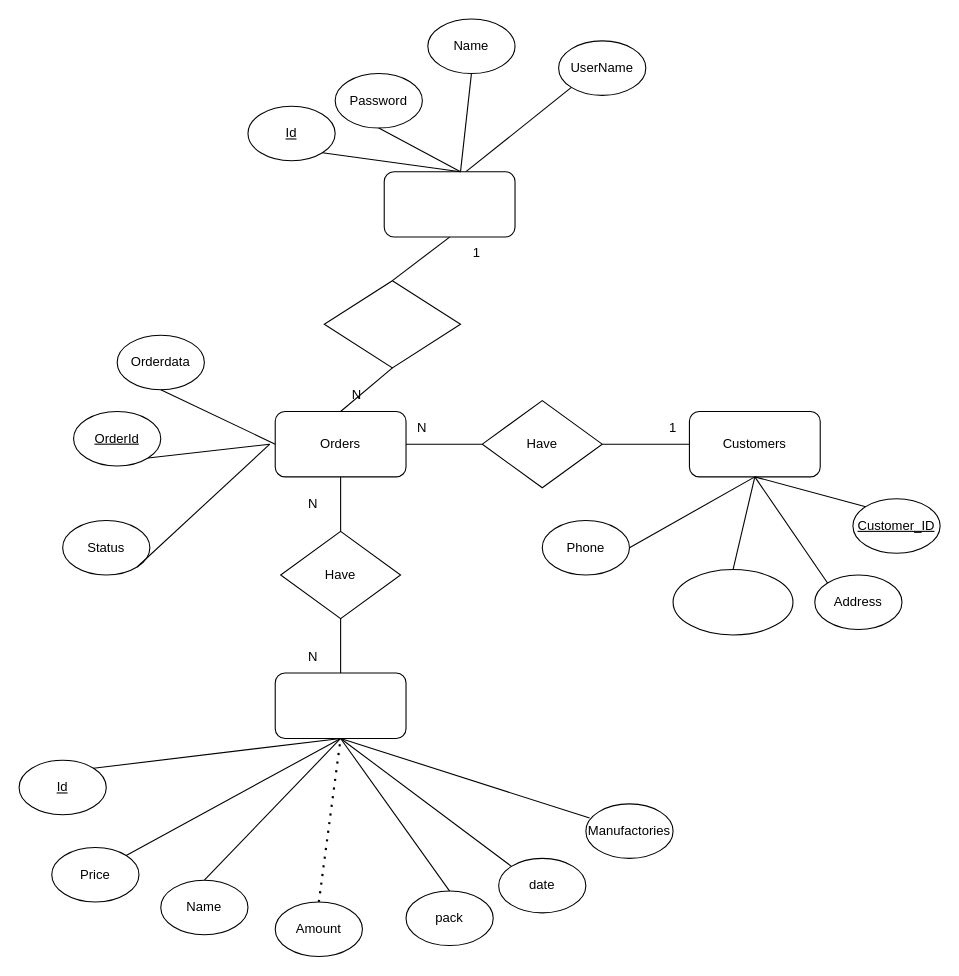
Some shapes in this 959 by 976 pixel diagram are drawn without their labels. The shapes that lost their labels are listed below. From the top down, each one's centre as x and y in pixels, then its label:
(x=449, y=204): Staffs
(x=392, y=324): Write
(x=732, y=601): Customer_Name
(x=340, y=705): Tabaccos
